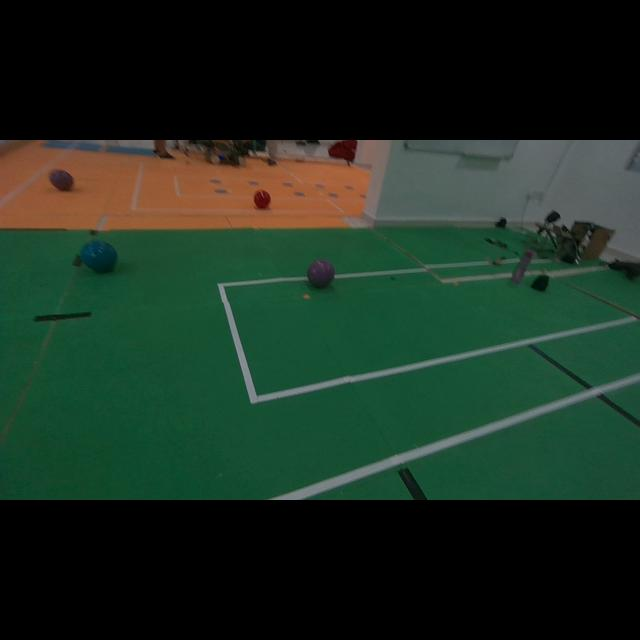B: (80, 240, 116, 272)
P: (308, 260, 335, 288), (49, 170, 74, 191)
R: (254, 190, 271, 209)
